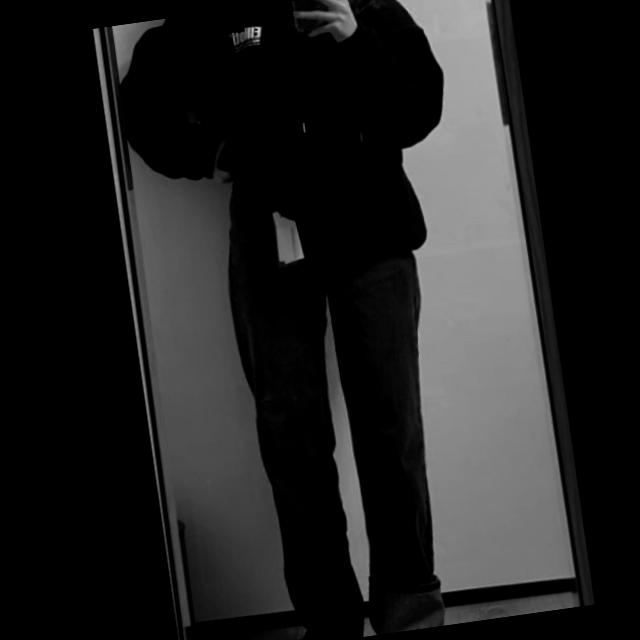denimpants: (212, 149, 468, 640)
hoodies: (113, 0, 463, 288)
